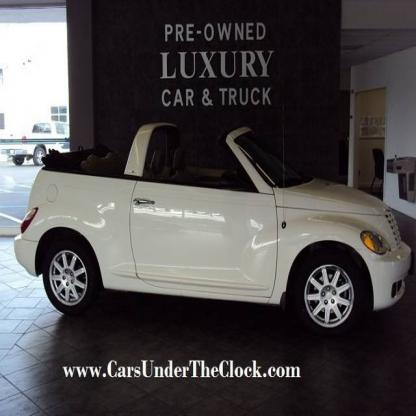Vehicle: (13, 122, 413, 348)
